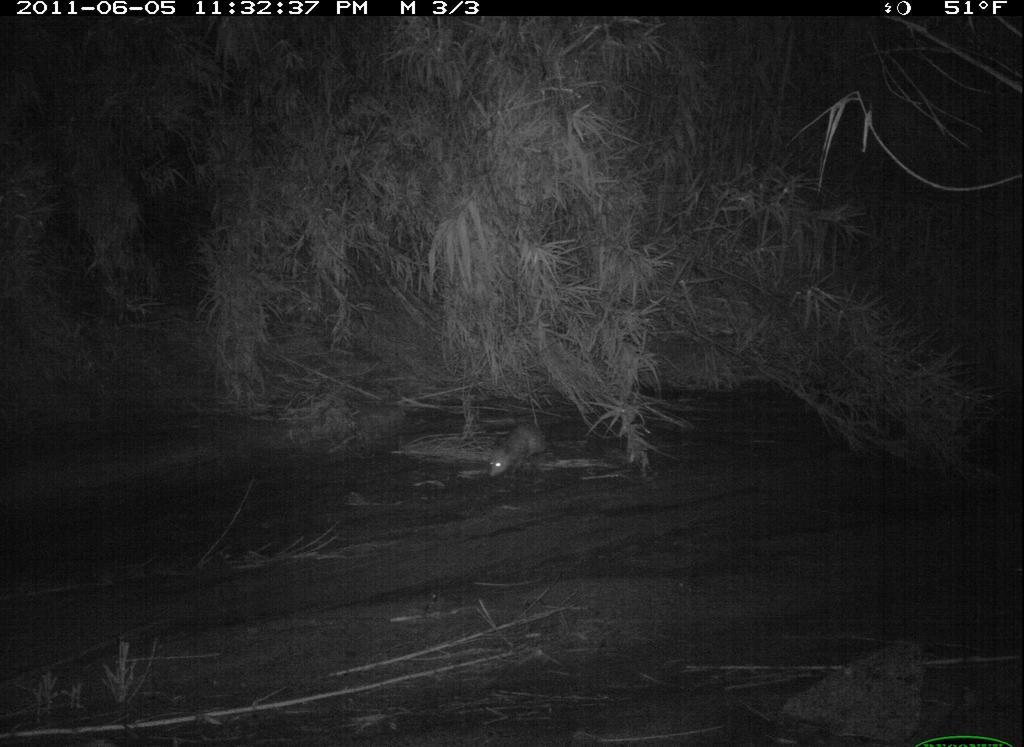opossum: (482, 420, 555, 488)
